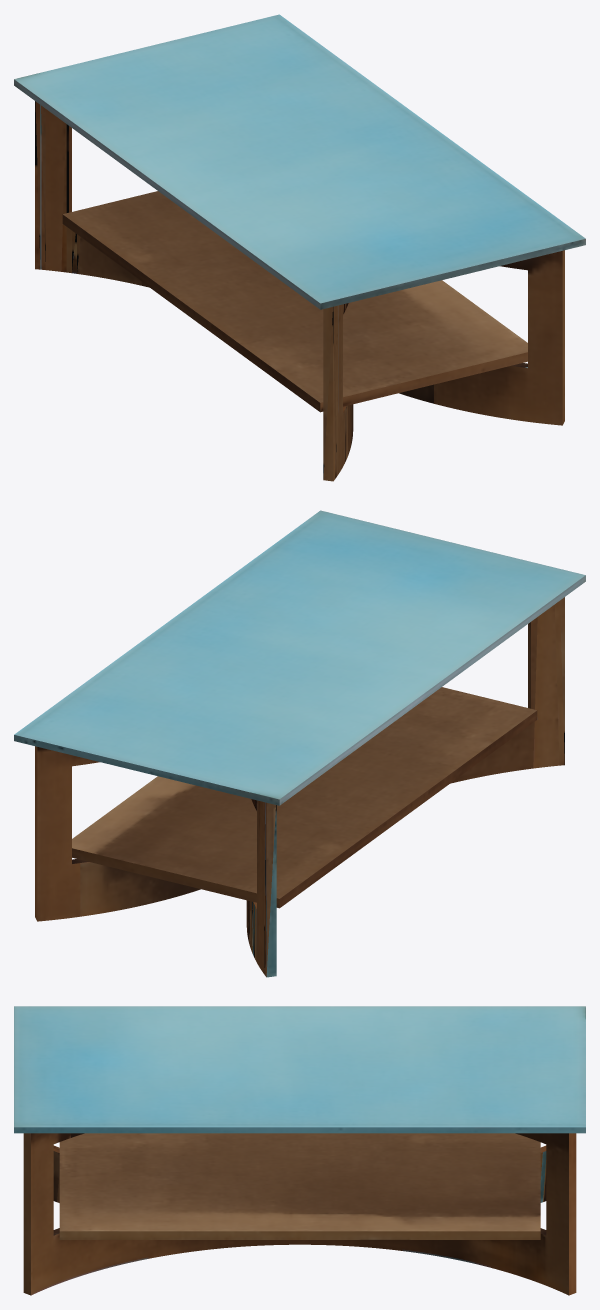
3 renders of one model, top to bottom at view 1: azimuth 30°, elevation 25°; view 2: azimuth 150°, elevation 25°; view 3: azimuth 270°, elevation 25°, orthographic. The views are drawn at different scales.
Visible parts, largest first — view 1: Node; view 2: Node; view 3: Node.
Part boxes in pixels (x1,y1,x2,y2): Node: (14, 14, 585, 481); Node: (14, 510, 585, 977); Node: (14, 1006, 585, 1295).
Bounding box in the file's own units: 0.3501 × 0.2347 × 0.7.
Materials: 1 (1 with a texture image).
